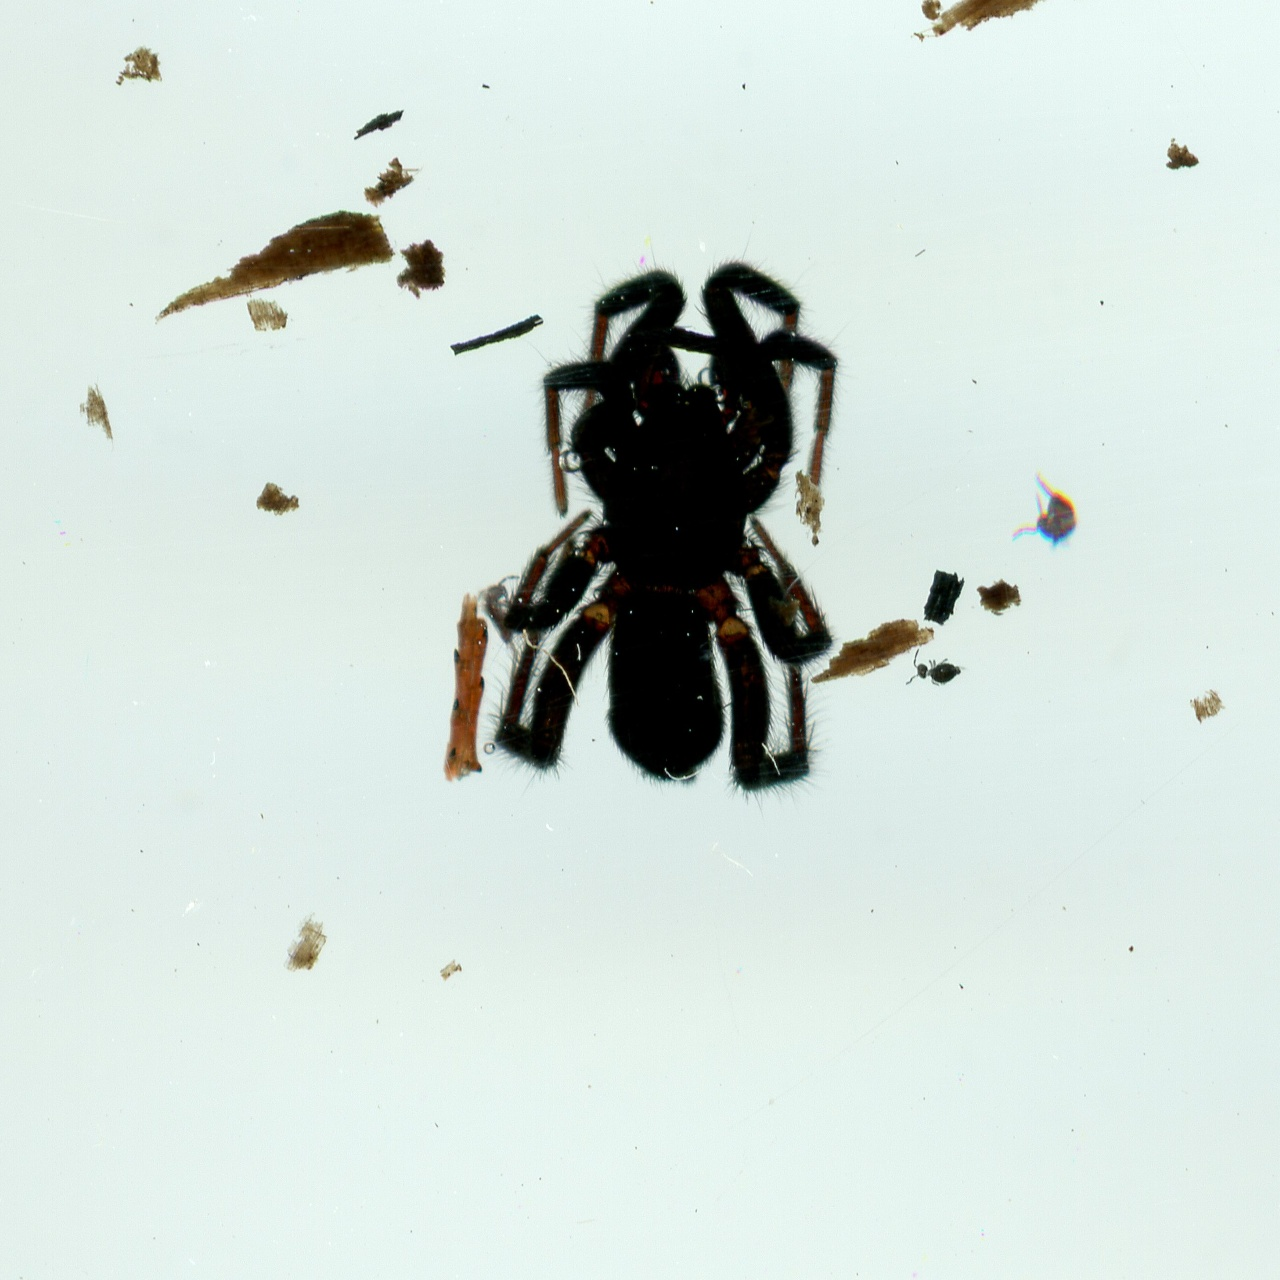arthropod: (472, 225, 863, 819), (469, 560, 523, 679), (1012, 470, 1085, 554)
